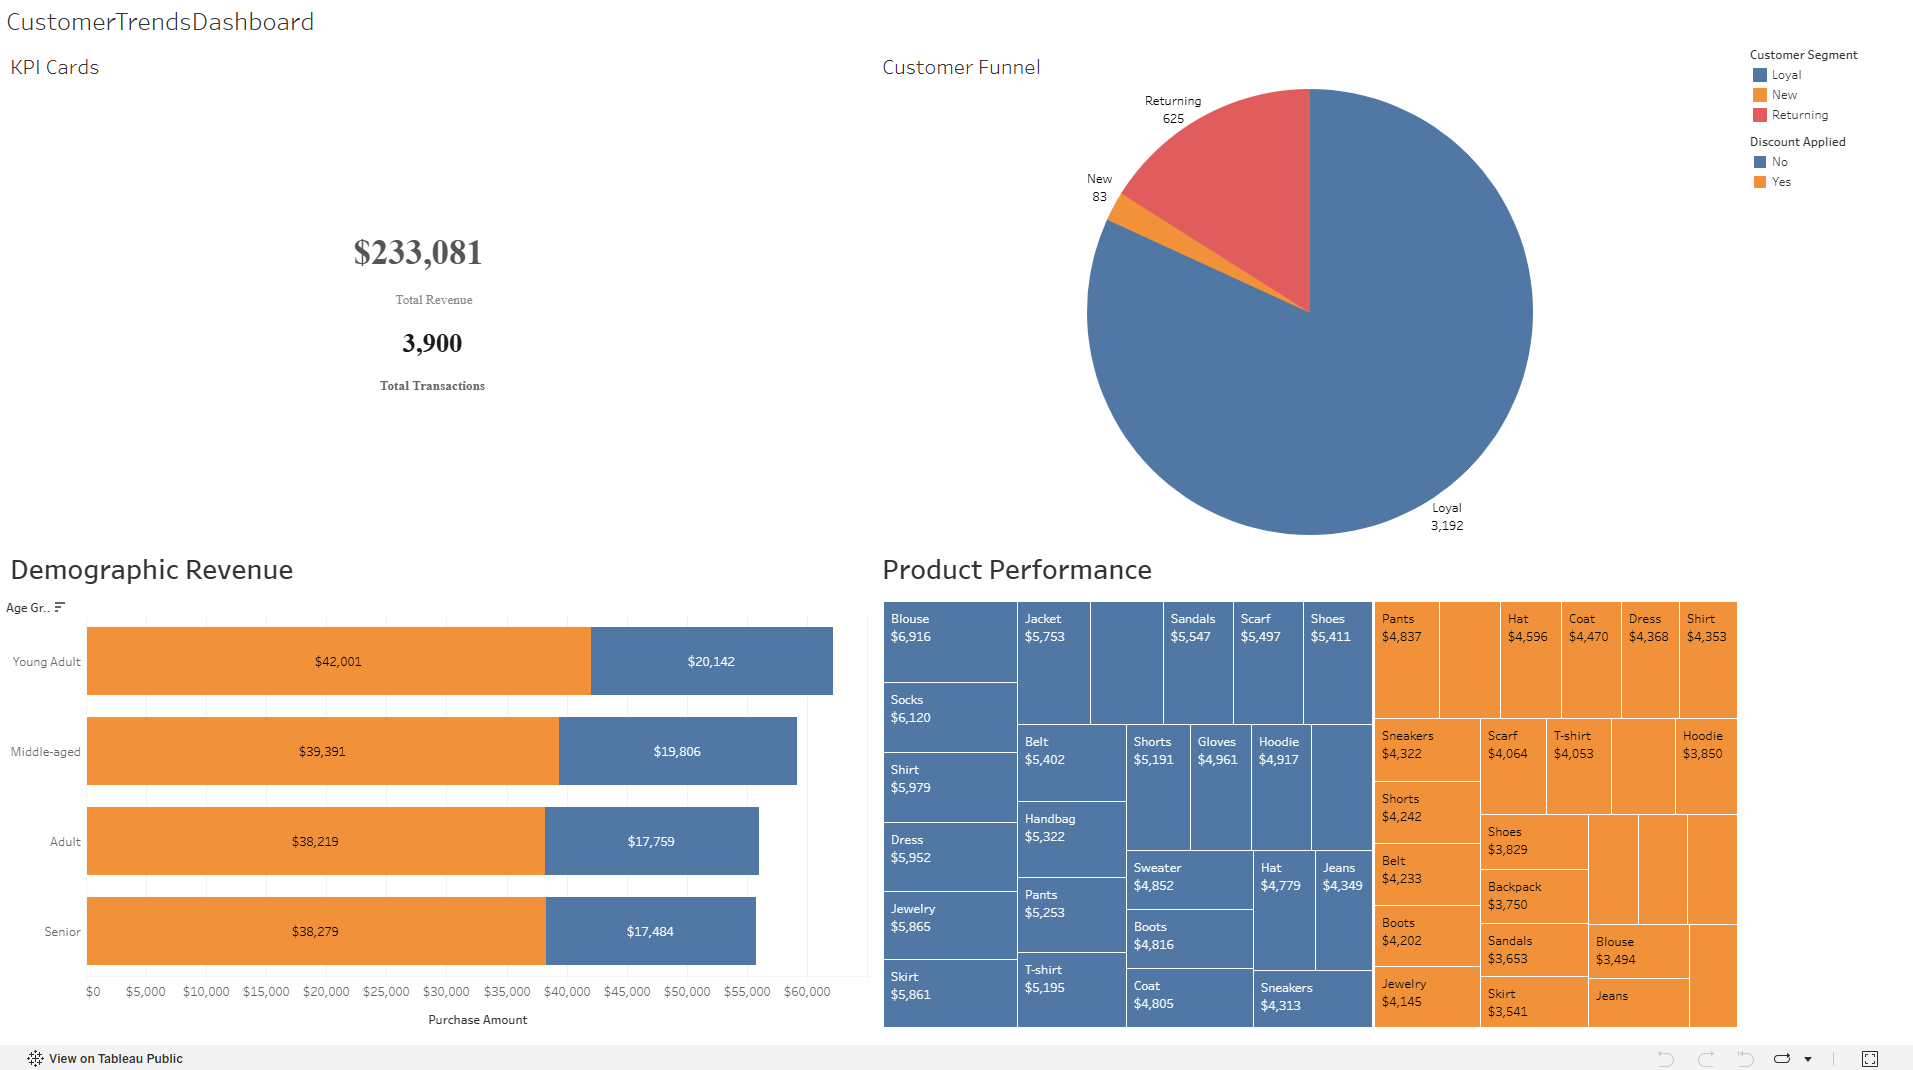

The page's visual inventory and layout, read from the dashboard file:
{"tool":"tableau","page":{"name":"CustomerTrendsDashboard","canvas":[1000,1000],"units":"permille","ordinal":0},"visuals":[{"type":"title","box":[4.7,8.9,990.6,46.9]},{"type":"worksheet","title":"KPI Cards","mark":"Automatic","box":[4.7,55.8,448.5,467.6]},{"type":"worksheet","title":"Customer Funnel","mark":"Pie","box":[453.2,55.8,448.5,467.6]},{"type":"legend","title":"Customer Funnel","param":"[federated.0ggr6gx15w6u561bq0csc1rt08r5].[none:Calculation_1168841353187328:nk]","box":[901.7,55.8,93.6,96]},{"type":"legend","title":"Product Performance","param":"[federated.0ggr6gx15w6u561bq0csc1rt08r5].[none:discount_applied:nk]","box":[901.7,151.8,93.6,73.7]},{"type":"worksheet","title":"Demographic Revenue","mark":"Automatic","rows":["age_group"],"cols":["purchase_amount"],"box":[4.7,523.4,448.5,467.6]},{"type":"worksheet","title":"Product Performance","mark":"Automatic","box":[453.2,523.4,448.5,467.6]}]}

Visuals, with their boxes on the dashboard's canvas, which has no fixed pixel size, in thousandths of its width and height (x1, y1, x2, y2). These are canvas units, not pixel positions in the 1913x1070 screenshot, which may show the page scaled, cropped or inside an application window:
title: left=5, top=9, right=995, bottom=56
"KPI Cards" worksheet: left=5, top=56, right=453, bottom=523
"Customer Funnel" worksheet (Pie marks): left=453, top=56, right=902, bottom=523
"Customer Funnel" legend: left=902, top=56, right=995, bottom=152
"Product Performance" legend: left=902, top=152, right=995, bottom=226
"Demographic Revenue" worksheet: left=5, top=523, right=453, bottom=991
"Product Performance" worksheet: left=453, top=523, right=902, bottom=991
